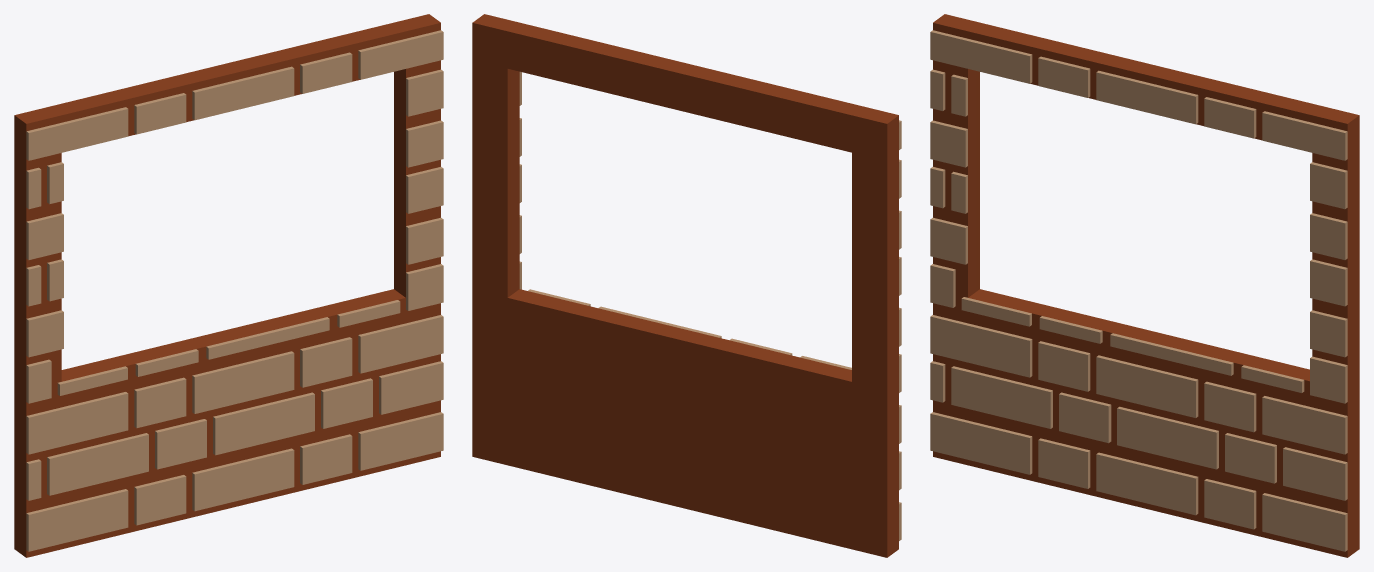
File: BrickV1Windowframe.fbx
The picture shows the model from 3 angles, left to right: view 1: azimuth 30°, elevation 25°; view 2: azimuth 150°, elevation 25°; view 3: azimuth 330°, elevation 25°; orthographic projection.
Visible parts, largest first — view 1: BrickV1Windowframe; view 2: BrickV1Windowframe; view 3: BrickV1Windowframe.
Part boxes in pixels (<box>): BrickV1Windowframe: <box>14,14,443,557</box>; BrickV1Windowframe: <box>472,14,901,557</box>; BrickV1Windowframe: <box>930,14,1359,557</box>.
Bounding box in the file's own units: 200 × 200 × 12.
